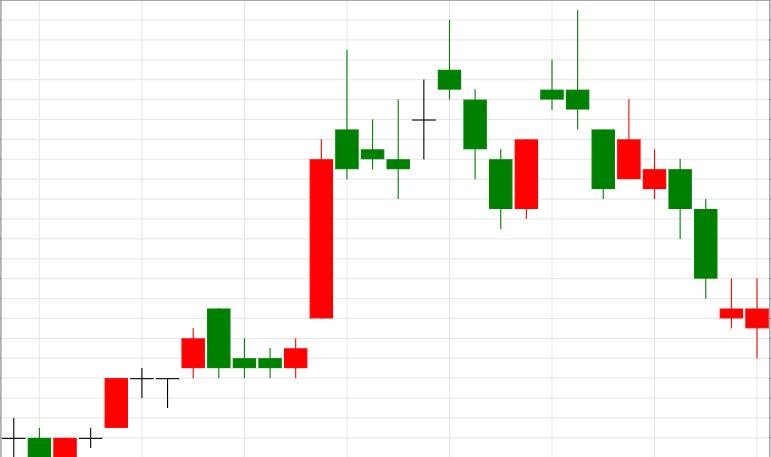shooting_star_fall: (53, 50, 359, 456)
